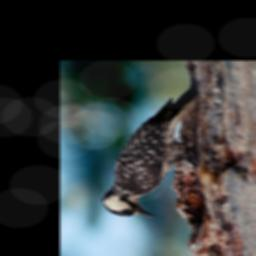Woodpecker: (90, 77, 206, 221)
